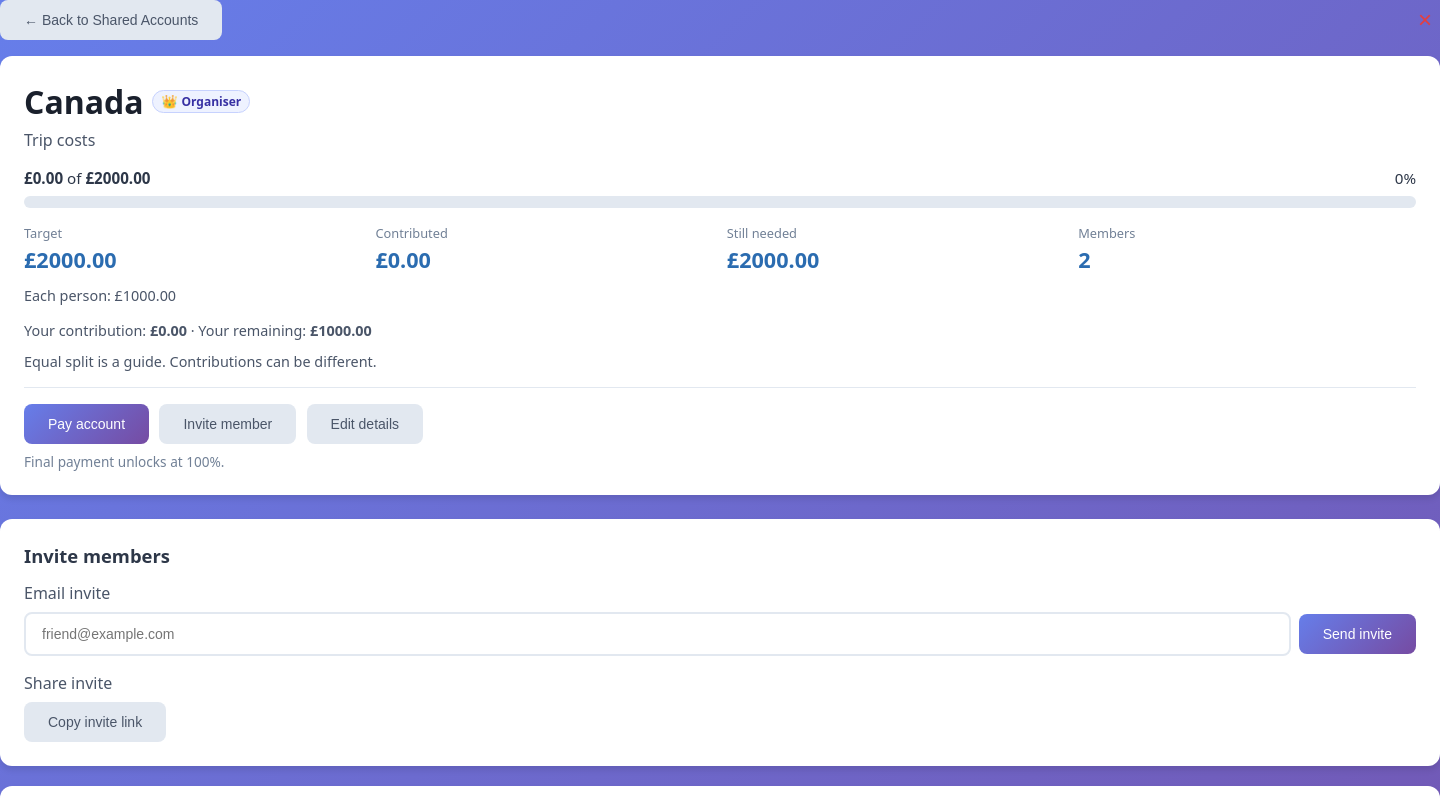
Scenario: SharedAccountDetail Pay account › lets a member with no personal tracked total pay a partial contribution
The width and height of the screenshot is (1440, 810).
Click the button "Pay account" at (87, 424), box [24,404,149,444]
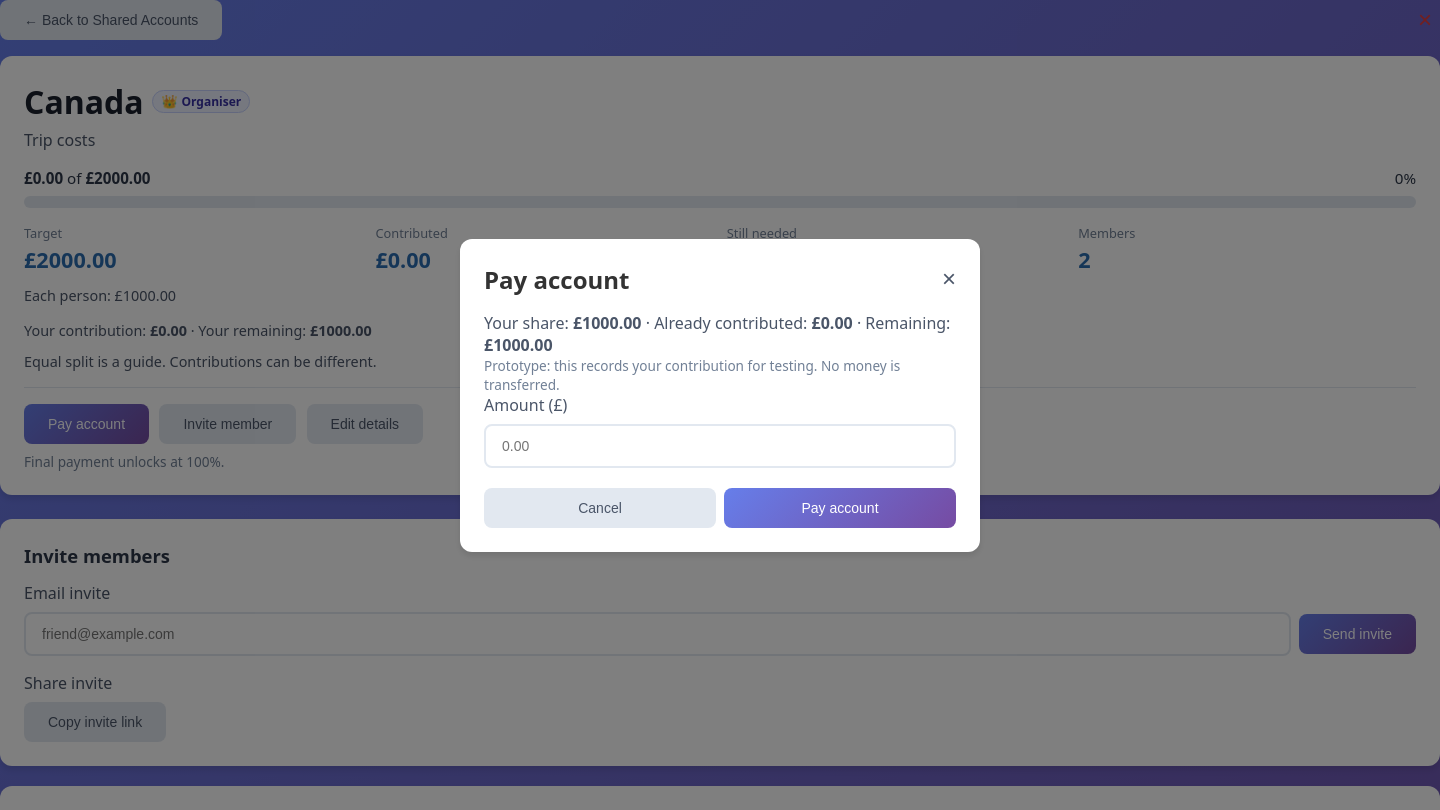
Check: the heading "Pay account" is shown, box [484,262,630,296]
Check: the text "Prototype: this records your contribution for testing" is shown, box [484,356,900,394]
Check: the text "Your share:" shows "£1000.00", box [484,312,956,356]
Type "100" into the number field labelled "Amount (£)" at (720, 446), box [484,424,956,468]
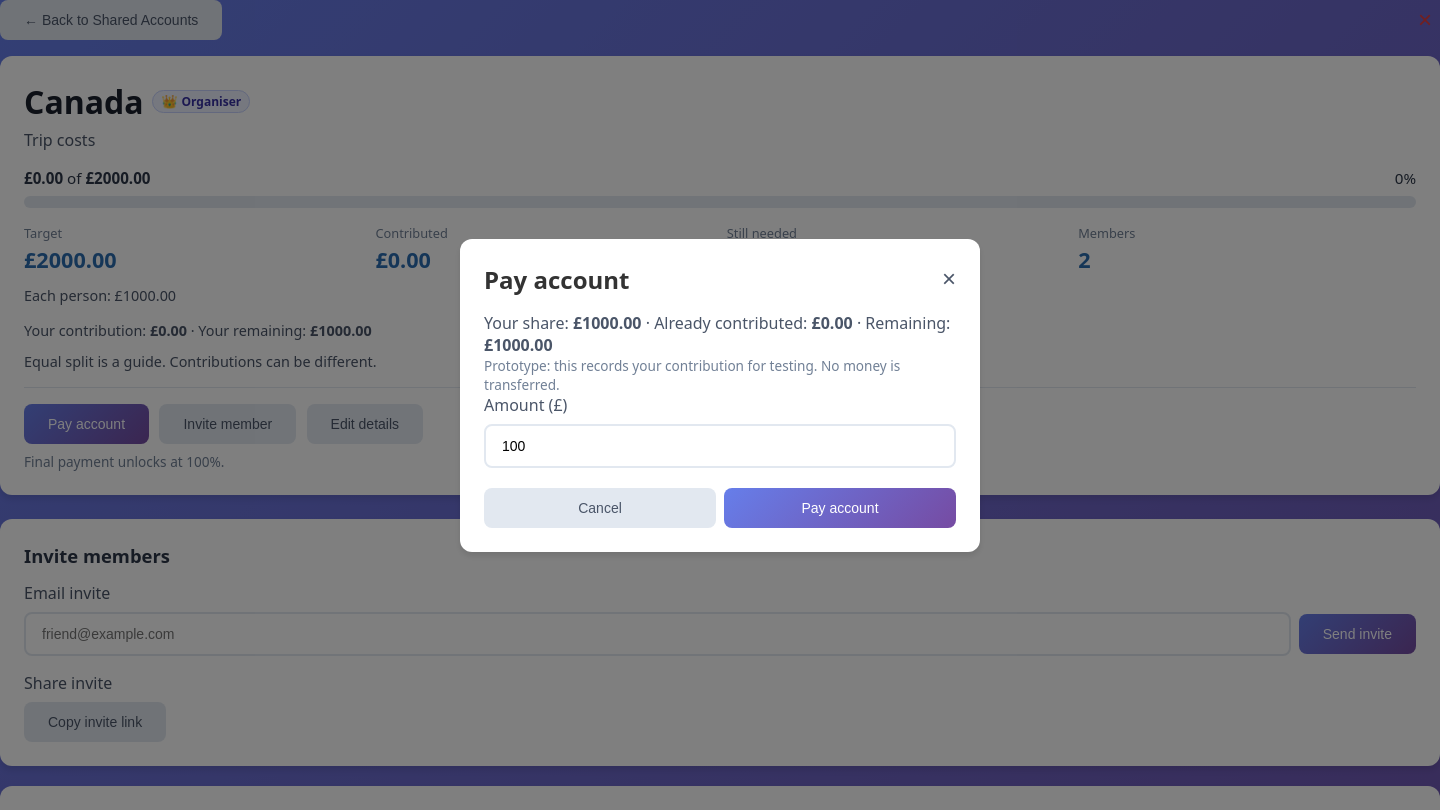
Submit the form labelled "Amount (£) Cancel Pay account", box [484,394,956,528]
(page scrolled)
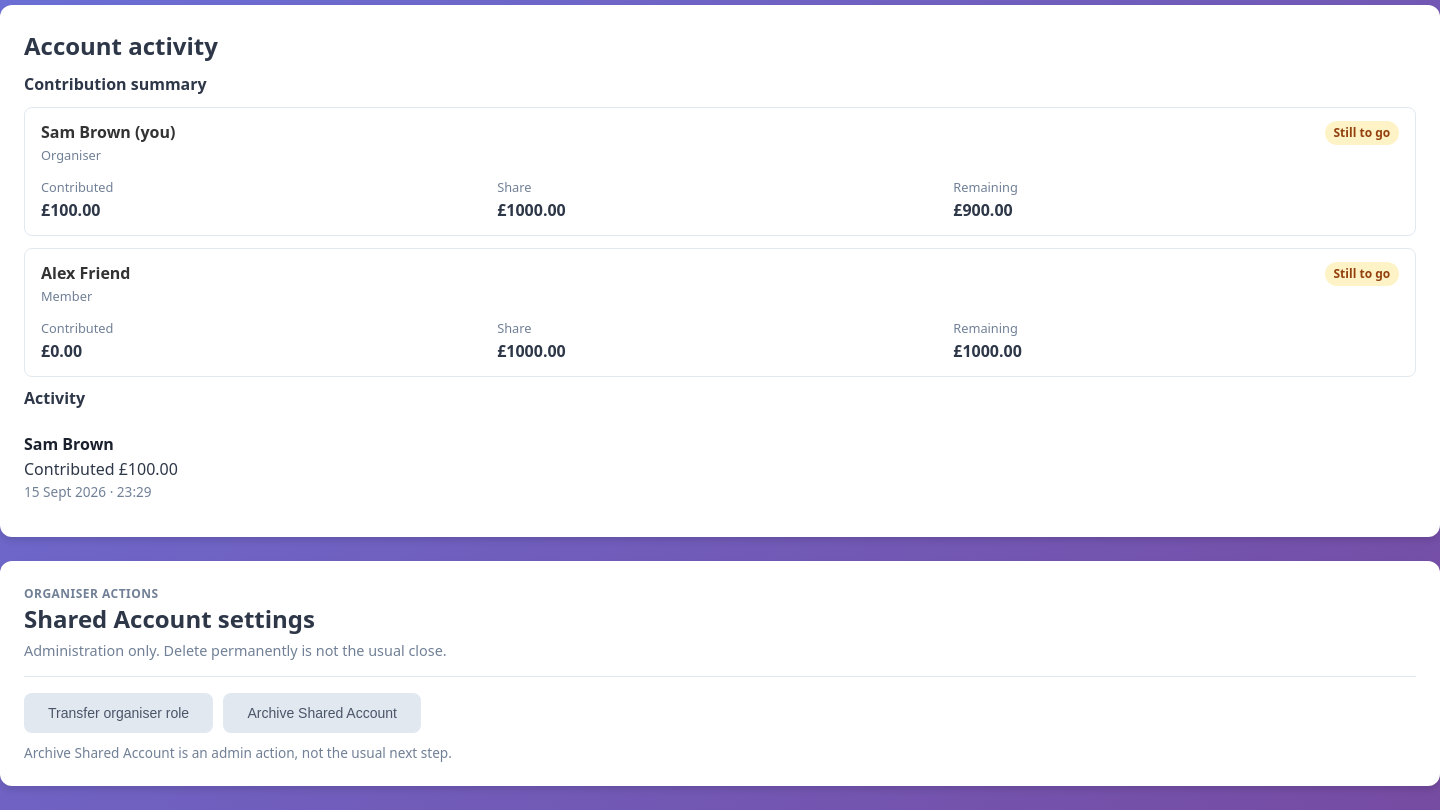
Check: the text "Sam Brown" is shown, box [24,433,114,455]
Check: the text "Contributed £100.00" is shown once, box [24,458,178,480]
